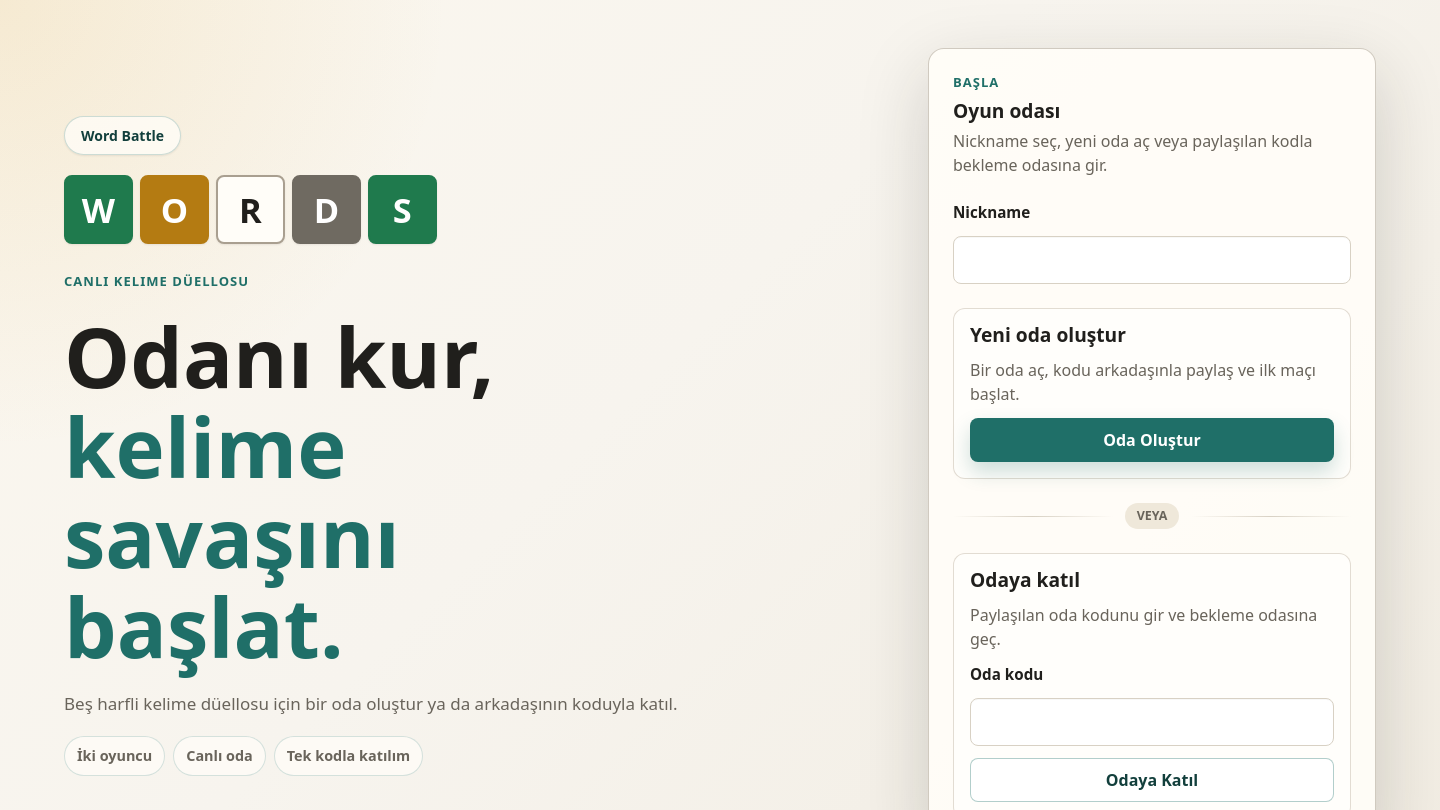
Test: HomePage › blocks duplicate create submits while loading
This screenshot has width=1440, height=810.
Type "Ada" into the field labelled "Nickname". click: (1152, 260)
box: 953,236 -> 1351,284
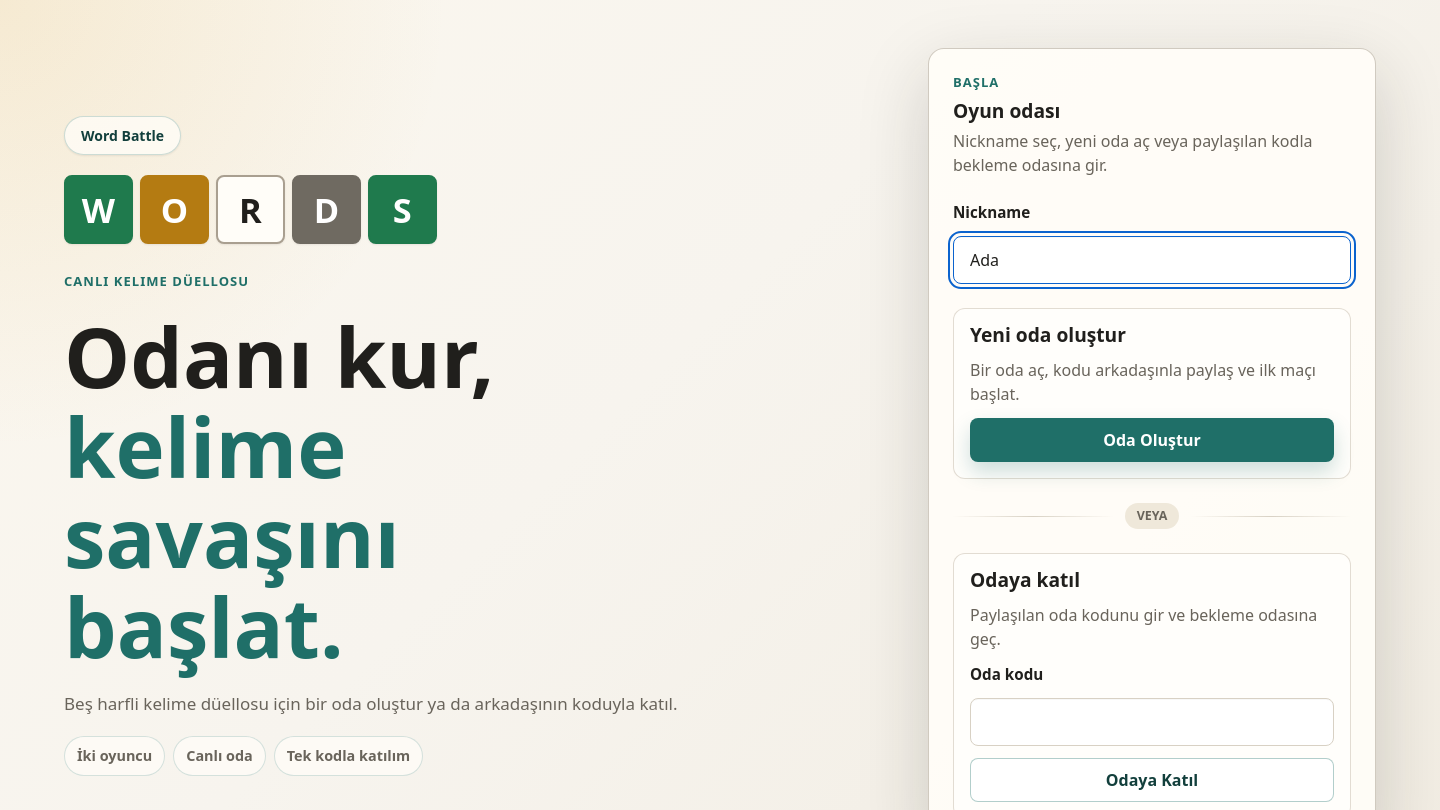
Double-click the button "Oda Oluştur" at (1152, 440), box 970,418 -> 1334,462
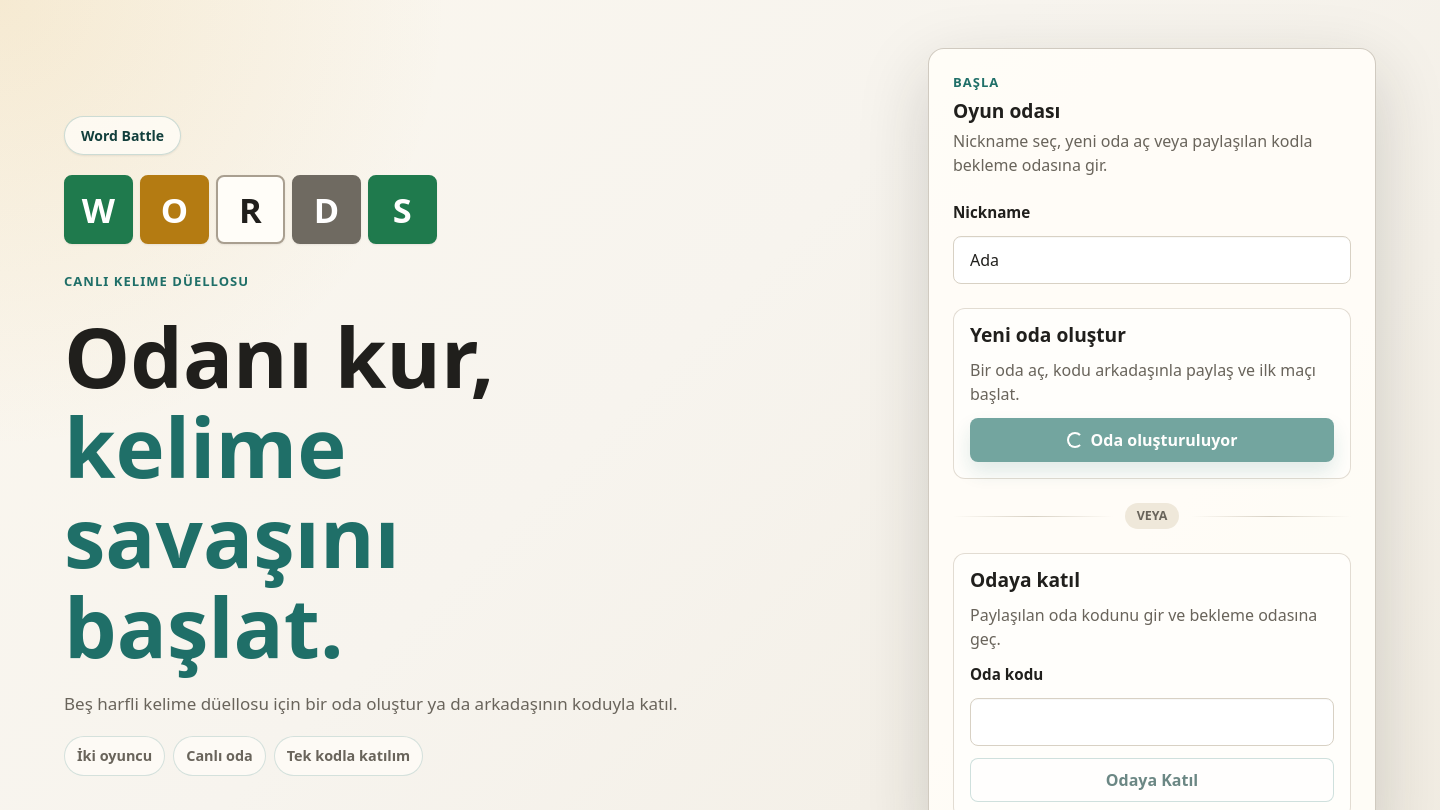
Expected: the button "Oda oluşturuluyor" is disabled, 970,418 -> 1334,462
Expected: the button "Odaya Katıl" is disabled, 970,758 -> 1334,802
